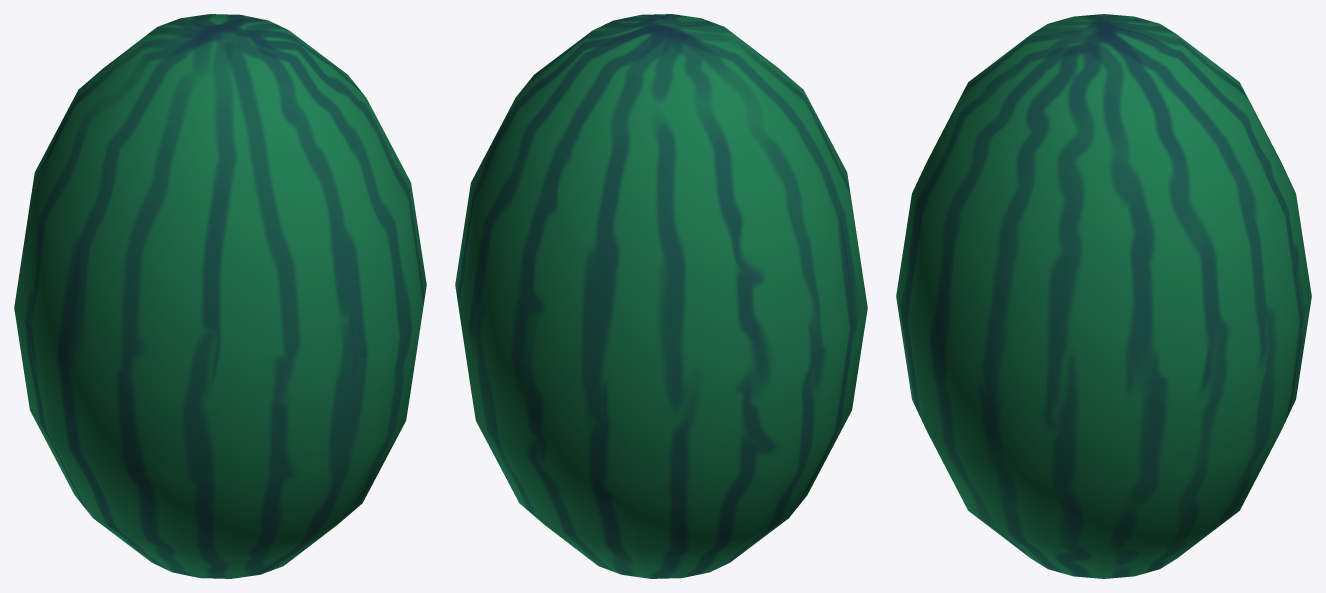
File: Watermelon.glb
3 renders of one model, left to right at view 1: azimuth 30°, elevation 25°; view 2: azimuth 150°, elevation 25°; view 3: azimuth 270°, elevation 25°, orthographic.
Parts seen in each view (by area): view 1: Watermelon; view 2: Watermelon; view 3: Watermelon.
Part boxes in pixels (x1,y1,x2,y2): Watermelon: (14,14,426,578); Watermelon: (455,14,867,578); Watermelon: (896,14,1311,578).
Bounding box in the file's own units: 0.4 × 0.572 × 0.4.
1 material, 1 textured.
